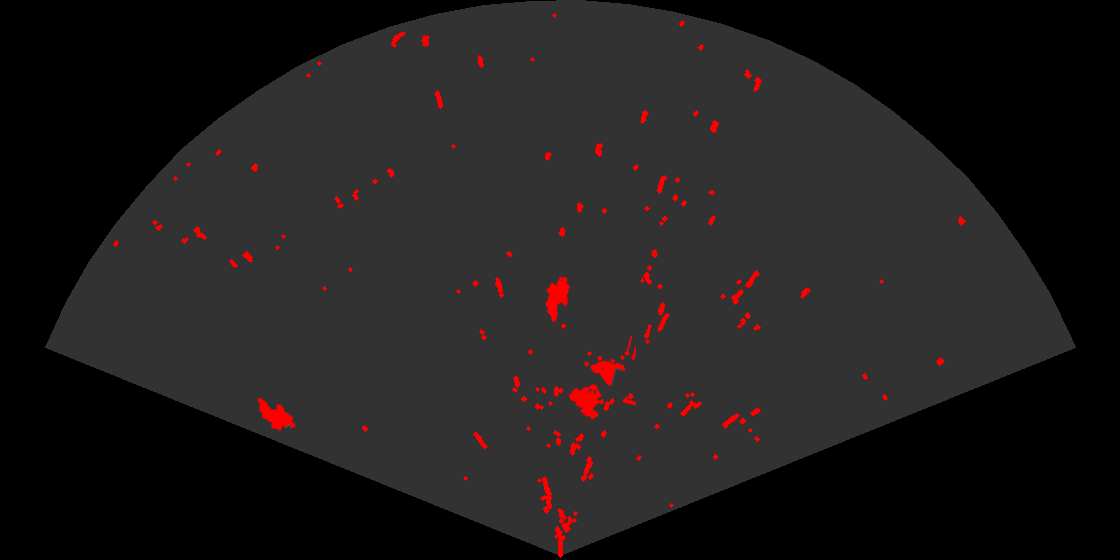AUV: (256, 396, 297, 432), (544, 275, 571, 324)
cage: (567, 336, 636, 421)
